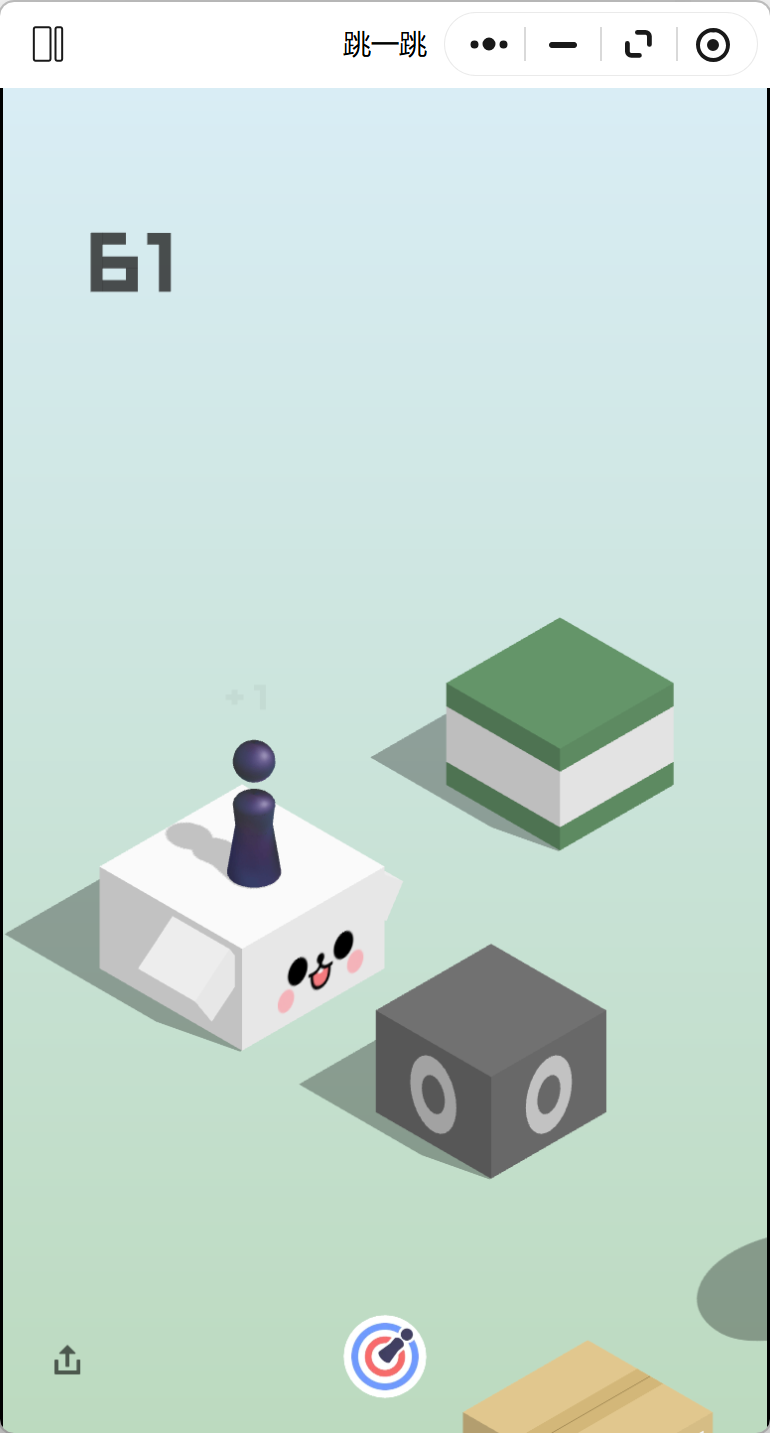piece: (230, 734, 282, 885)
platform: (446, 615, 676, 851)
